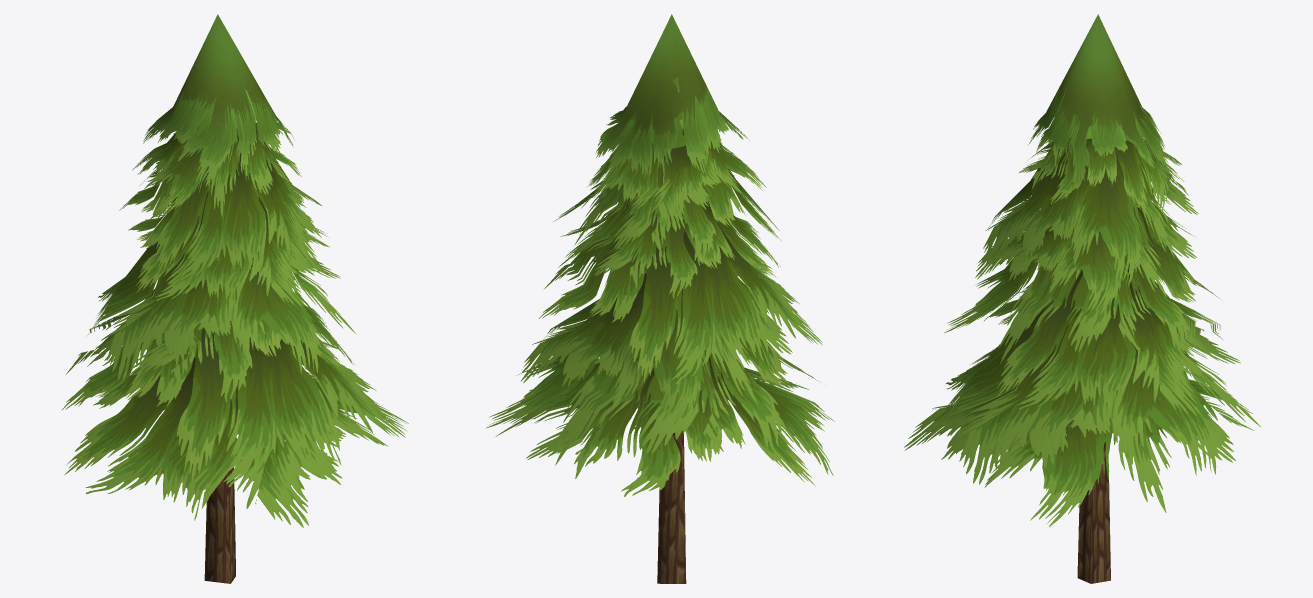
The model's file is spruce2_LOD1.fbx.
3 views of the same model, side by side, from view 1: azimuth 30°, elevation 25°; view 2: azimuth 150°, elevation 25°; view 3: azimuth 270°, elevation 25° (orthographic).
Parts seen in each view (by area): view 1: spruce2_LOD1; view 2: spruce2_LOD1; view 3: spruce2_LOD1.
Part boxes in pixels (x1,y1,x2,y2): spruce2_LOD1: (61,14,408,583); spruce2_LOD1: (486,14,834,583); spruce2_LOD1: (904,14,1260,583).
Size of the model in its own units: 330 by 481 by 313.
